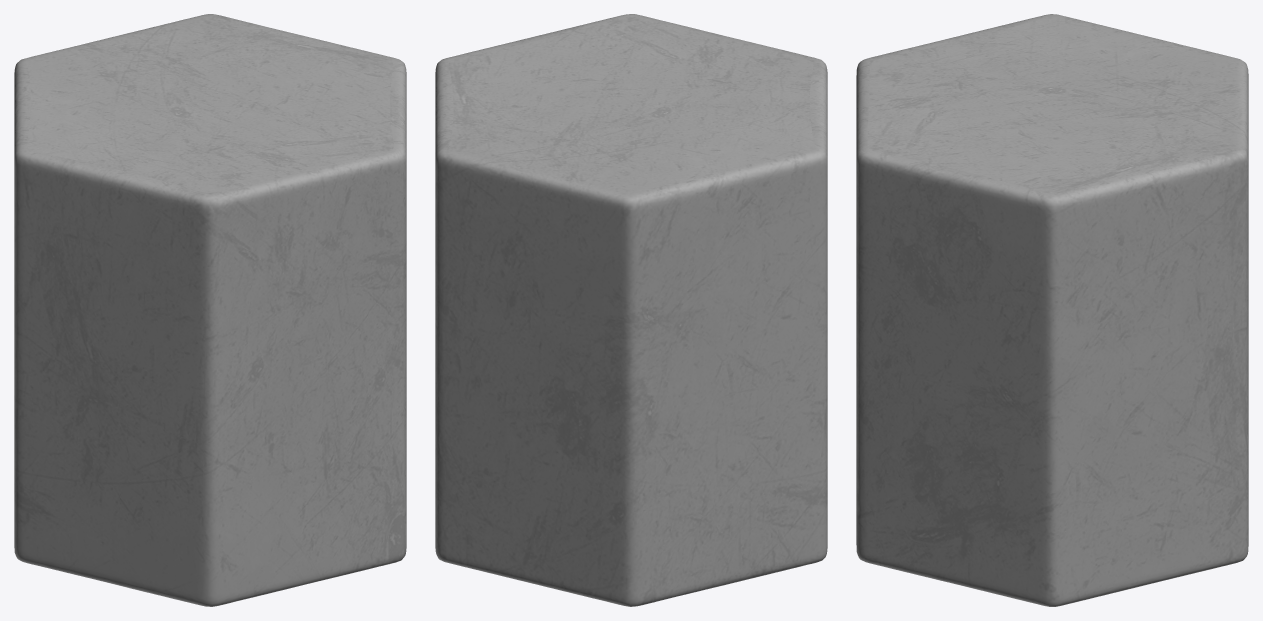
File: HexCylinder.glb
3 renders of one model, left to right at view 1: azimuth 30°, elevation 25°; view 2: azimuth 150°, elevation 25°; view 3: azimuth 270°, elevation 25°, orthographic.
Visible parts, largest first — view 1: HexCylinder; view 2: HexCylinder; view 3: HexCylinder.
Boxes of the visible parts, x1,y1,x2,y2 form: HexCylinder: (14, 14, 406, 606); HexCylinder: (435, 14, 827, 606); HexCylinder: (856, 14, 1248, 606).
Size of the model in its own units: 1.56 by 1.58 by 1.36.
Materials: 1 (1 with a texture image).
